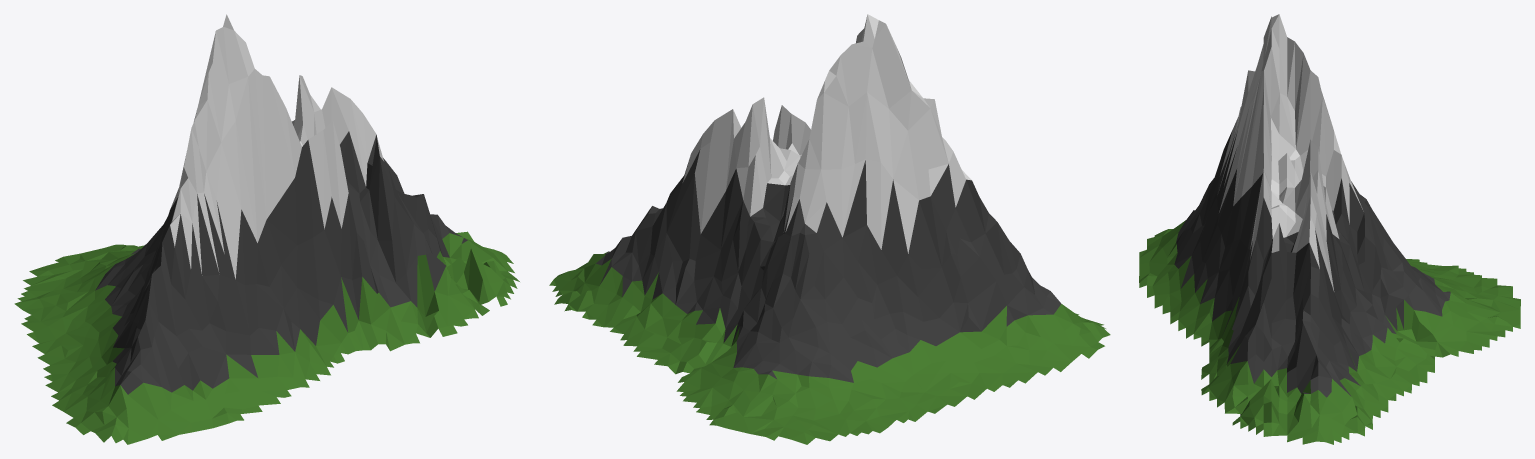
File: Mountain4_hig.fbx
The picture shows the model from 3 angles, left to right: view 1: azimuth 30°, elevation 25°; view 2: azimuth 150°, elevation 25°; view 3: azimuth 270°, elevation 25°; orthographic projection. The views are drawn at different scales.
Parts seen in each view (by area): view 1: Plane.013; view 2: Plane.013; view 3: Plane.013.
Boxes of the visible parts, <box> form: Plane.013: <box>14,14,519,444</box>; Plane.013: <box>549,14,1110,444</box>; Plane.013: <box>1139,14,1520,444</box>.
Bounding box in the file's own units: 1333 × 870 × 991.
